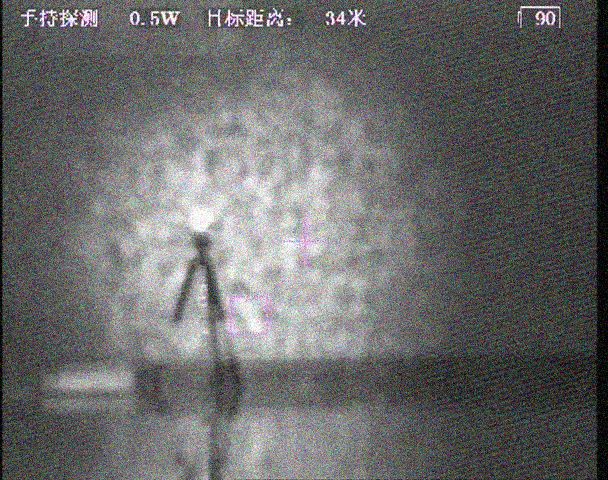my: (187, 206, 215, 234)
